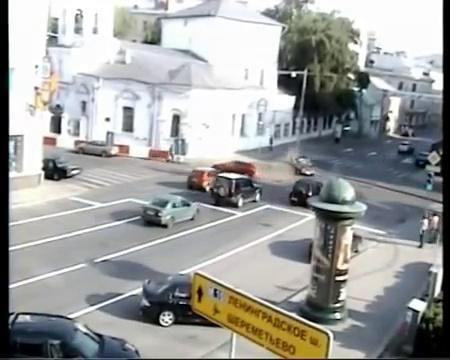car-accident: (189, 159, 265, 208)
